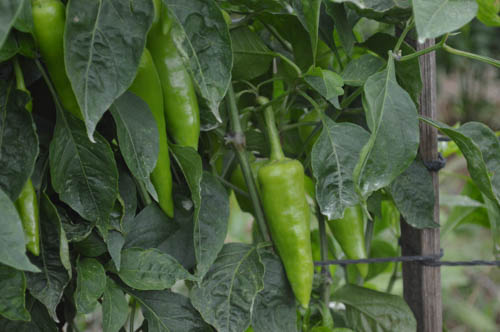ChiliPepper: (249, 166, 320, 304), (126, 58, 177, 218), (153, 28, 202, 154), (32, 4, 81, 114), (336, 193, 365, 272), (23, 189, 41, 257)
